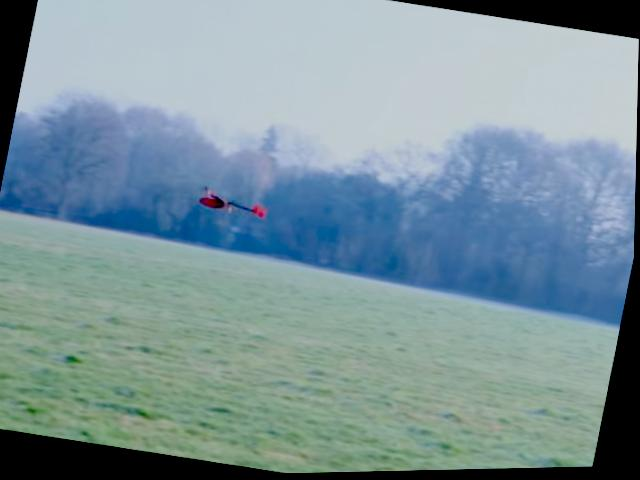uav: (193, 183, 272, 226)
